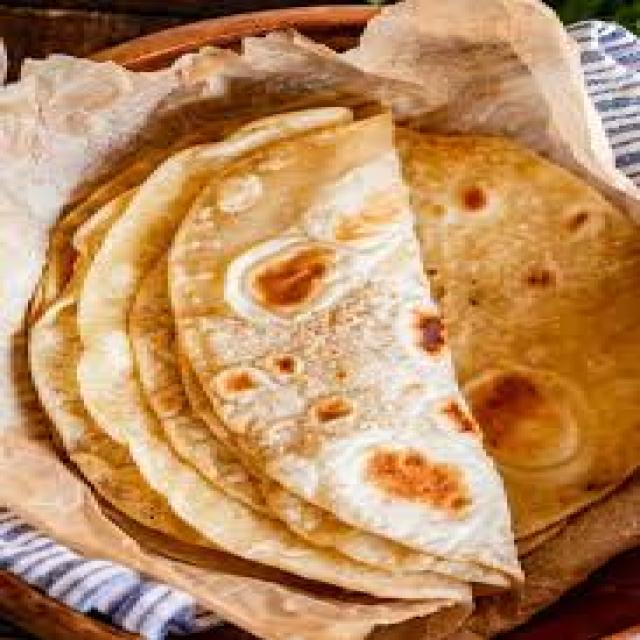ROTI: (28, 140, 479, 598), (168, 109, 518, 596), (399, 128, 637, 538)
